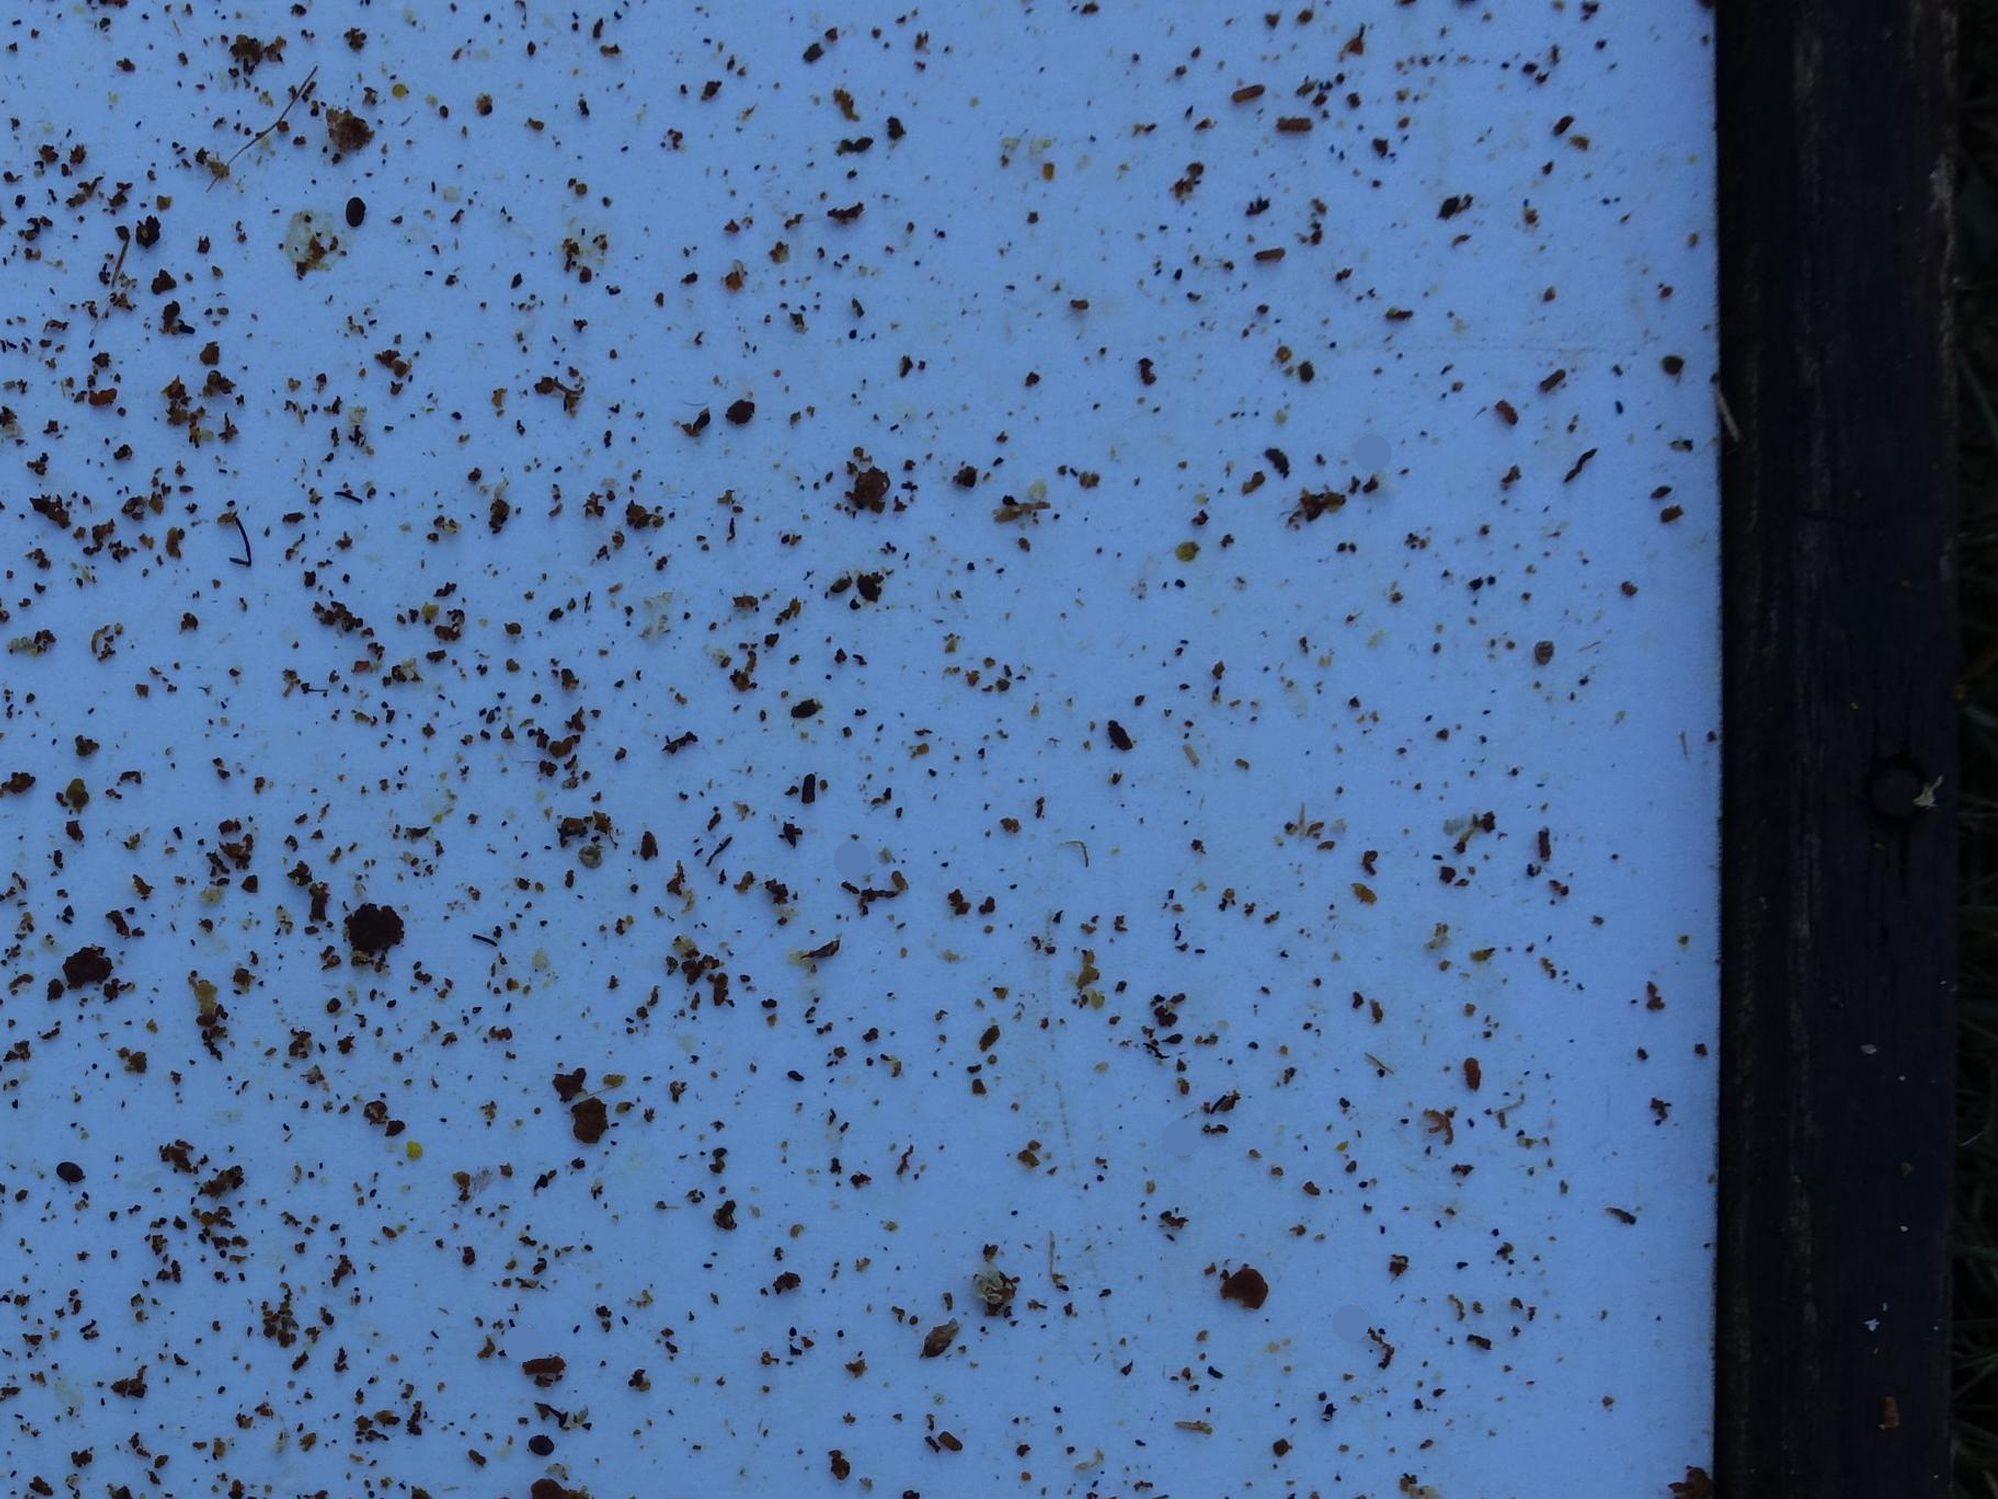Varroa: (339, 194, 368, 227), (526, 1430, 556, 1460), (58, 1159, 87, 1187)
